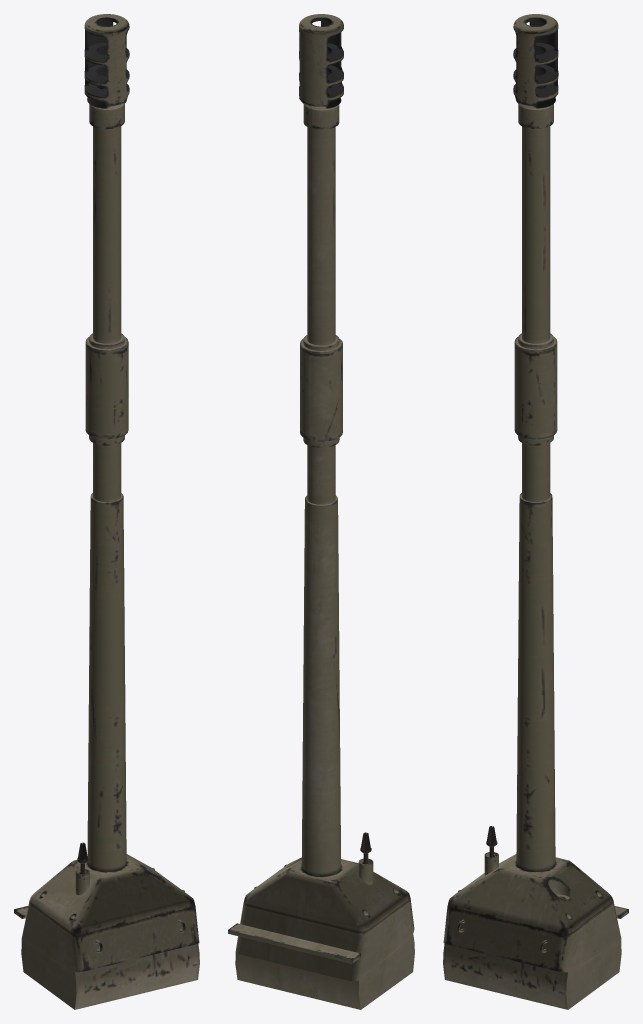
File: Gun_01.glb
The picture shows the model from 3 angles, left to right: view 1: azimuth 30°, elevation 25°; view 2: azimuth 150°, elevation 25°; view 3: azimuth 330°, elevation 25°; orthographic projection.
Parts seen in each view (by area): view 1: set_0_group_0; view 2: set_0_group_0; view 3: set_0_group_0.
Boxes of the visible parts, left/top/right/bottom form: set_0_group_0: left=14, top=14, right=199, bottom=1009; set_0_group_0: left=228, top=14, right=414, bottom=1009; set_0_group_0: left=443, top=14, right=628, bottom=1009.
Size of the model in its own units: 0.83 by 6.12 by 0.7896.
1 material, 1 textured.
